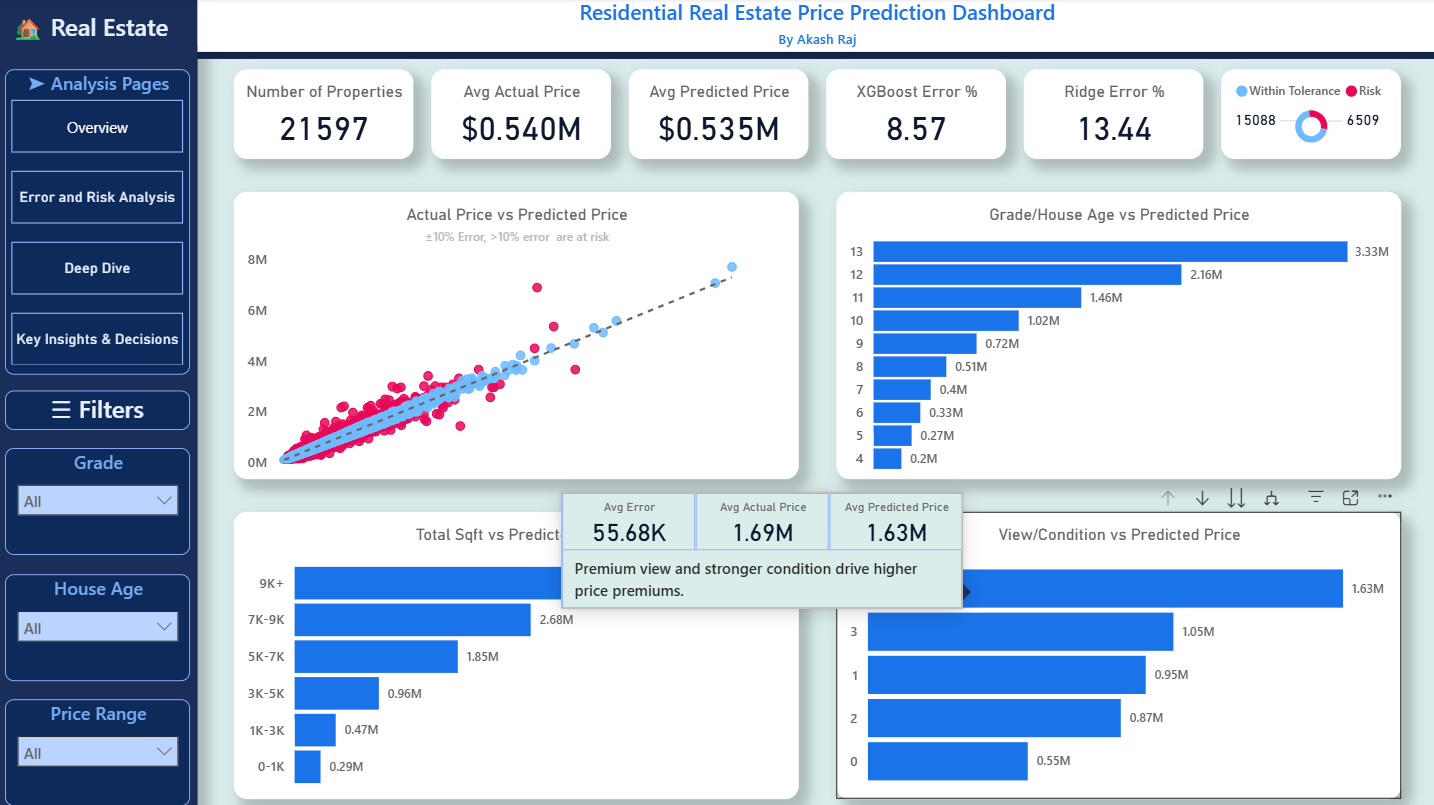

This screenshot's page, from the dashboard's own definition file:
{"tool":"tableau","page":{"name":"Model Reliability & Pricing Confidence","canvas":[1000,1000],"units":"permille","ordinal":1},"visuals":[{"type":"worksheet","title":"Ex-Back","mark":"Automatic","box":[0,0,1000,1000]},{"type":"text","box":[47.4,27.8,902.3,47.2]},{"type":"dashboard-object","box":[54.1,33.3,109.8,38.9]},{"type":"filter","title":"Actual vs Predicted — XGBoost","param":"[federated.0pb6tqq0hun84y1cwjt1z028dbxy].[none:actual_price:qk]","box":[674.4,175,91,98.6]},{"type":"filter","title":"Actual vs Predicted — XGBoost","param":"[federated.0pb6tqq0hun84y1cwjt1z028dbxy].[none:grade:qk]","box":[766.9,175,91,98.6]},{"type":"filter","title":"Ex-Back","param":"[federated.0pb6tqq0hun84y1cwjt1z028dbxy].[none:house_age:qk]","box":[859.4,175,91,98.6]},{"type":"worksheet","title":"KPI Tiles","mark":"Automatic","box":[49.6,176.4,581.2,98.6]},{"type":"blank","box":[166.9,176.4,2.3,97.2]},{"type":"blank","box":[281.9,176.4,2.3,97.2]},{"type":"blank","box":[397,176.4,2.3,97.2]},{"type":"blank","box":[512,176.4,2.3,97.2]},{"type":"worksheet","title":"Actual vs Predicted — XGBoost","mark":"Automatic","rows":["actual_price"],"cols":["xgb_pred_price"],"box":[43.6,419.4,281.2,481.9]},{"type":"worksheet","title":"Actual vs Predicted — Ridge","mark":"Automatic","rows":["actual_price"],"cols":["ridge_pred_price"],"box":[357.1,419.4,279.7,481.9]},{"type":"worksheet","title":"Total Sqft vs Predicted Price","mark":"Bar","rows":["Calculation_0555552130994176"],"cols":["xgb_pred_price"],"box":[671.4,419.4,280.4,481.9]},{"type":"text","box":[214.3,438.9,85.7,41.7]},{"type":"legend","title":"Total Sqft vs Predicted Price","param":"[federated.0pb6tqq0hun84y1cwjt1z028dbxy].[none:Calculation_0458520059084800:nk]","box":[209,833.3,112.8,58.3]}]}

Visuals, with their boxes on the dashboard's canvas, which has no fixed pixel size, in thousandths of its width and height (x1, y1, x2, y2). These are canvas units, not pixel positions in the 1434x805 screenshot, which may show the page scaled, cropped or inside an application window:
"Ex-Back" worksheet: (0, 0, 1000, 1000)
text: (47, 28, 950, 75)
dashboard-object: (54, 33, 164, 72)
"Actual vs Predicted — XGBoost" filter: (674, 175, 765, 274)
"Actual vs Predicted — XGBoost" filter: (767, 175, 858, 274)
"Ex-Back" filter: (859, 175, 950, 274)
"KPI Tiles" worksheet: (50, 176, 631, 275)
blank: (167, 176, 169, 274)
blank: (282, 176, 284, 274)
blank: (397, 176, 399, 274)
blank: (512, 176, 514, 274)
"Actual vs Predicted — XGBoost" worksheet: (44, 419, 325, 901)
"Actual vs Predicted — Ridge" worksheet: (357, 419, 637, 901)
"Total Sqft vs Predicted Price" worksheet (Bar marks): (671, 419, 952, 901)
text: (214, 439, 300, 481)
"Total Sqft vs Predicted Price" legend: (209, 833, 322, 892)
